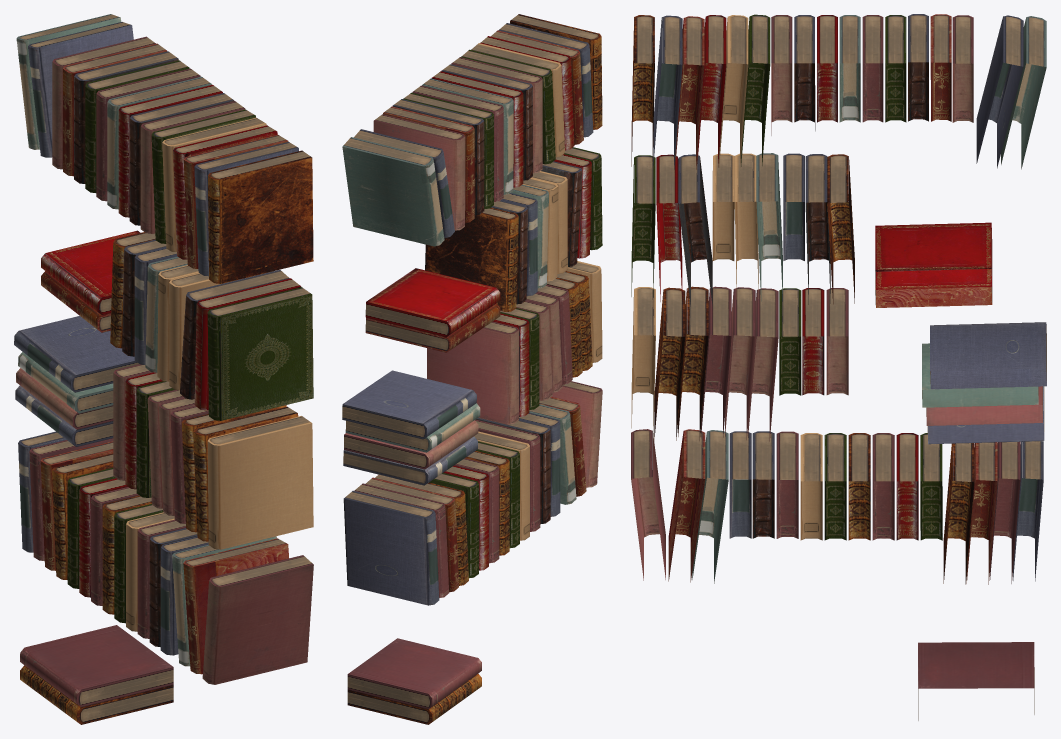
File: Books.FBX
The picture shows the model from 3 angles, left to right: view 1: azimuth 30°, elevation 25°; view 2: azimuth 150°, elevation 25°; view 3: azimuth 270°, elevation 25°; orthographic projection. The views are drawn at different scales.
Visible parts, largest first — view 1: books; view 2: books; view 3: books.
Part boxes in pixels (x1=…): books: x1=14, y1=14, x2=313, y2=724; books: x1=342, y1=14, x2=602, y2=724; books: x1=631, y1=14, x2=1046, y2=720.
Size of the model in its own units: 33.03 by 211 by 120.
